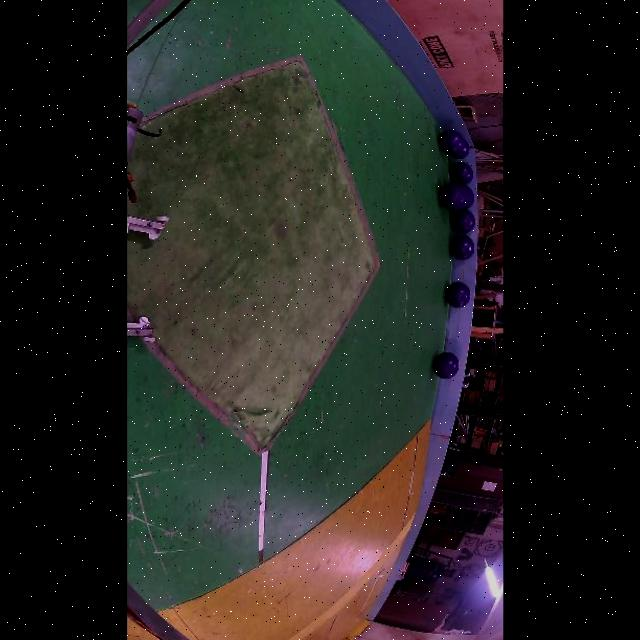P: (439, 183, 468, 211), (433, 352, 459, 379), (450, 234, 475, 260), (446, 281, 471, 307), (439, 130, 463, 155), (451, 209, 475, 233), (451, 162, 473, 185), (451, 140, 469, 160), (464, 185, 475, 208)
